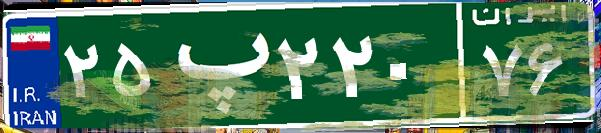0: (385, 28, 445, 110)
2: (273, 28, 330, 110), (330, 28, 385, 110), (57, 26, 110, 107)
5: (110, 28, 158, 105)
6: (525, 38, 570, 115)
7: (475, 38, 525, 113)
پ: (158, 15, 273, 115)
